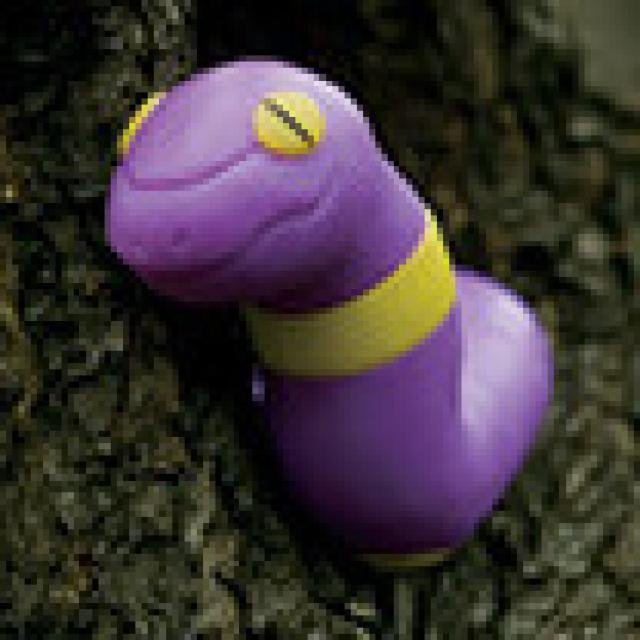Ekans: (97, 32, 560, 570)
